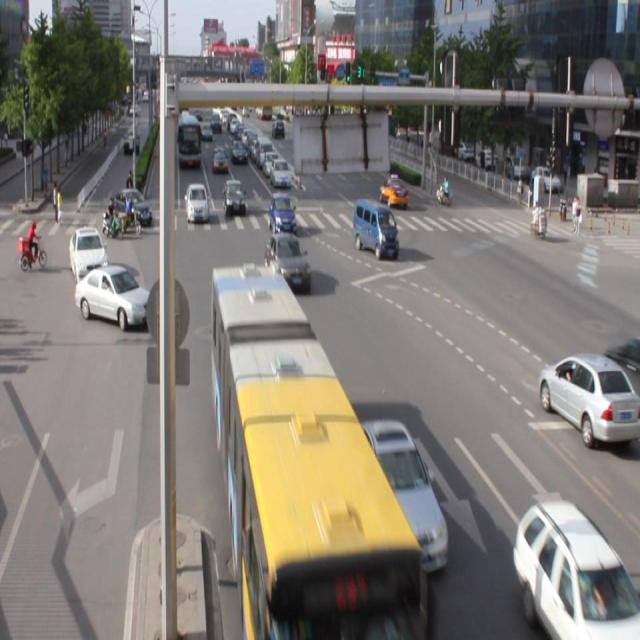car: (511, 498, 640, 640), (356, 418, 448, 572), (536, 351, 640, 441), (74, 263, 154, 330), (264, 233, 310, 294), (267, 192, 298, 238)
truck: (353, 197, 398, 259)
van: (212, 266, 417, 640)
